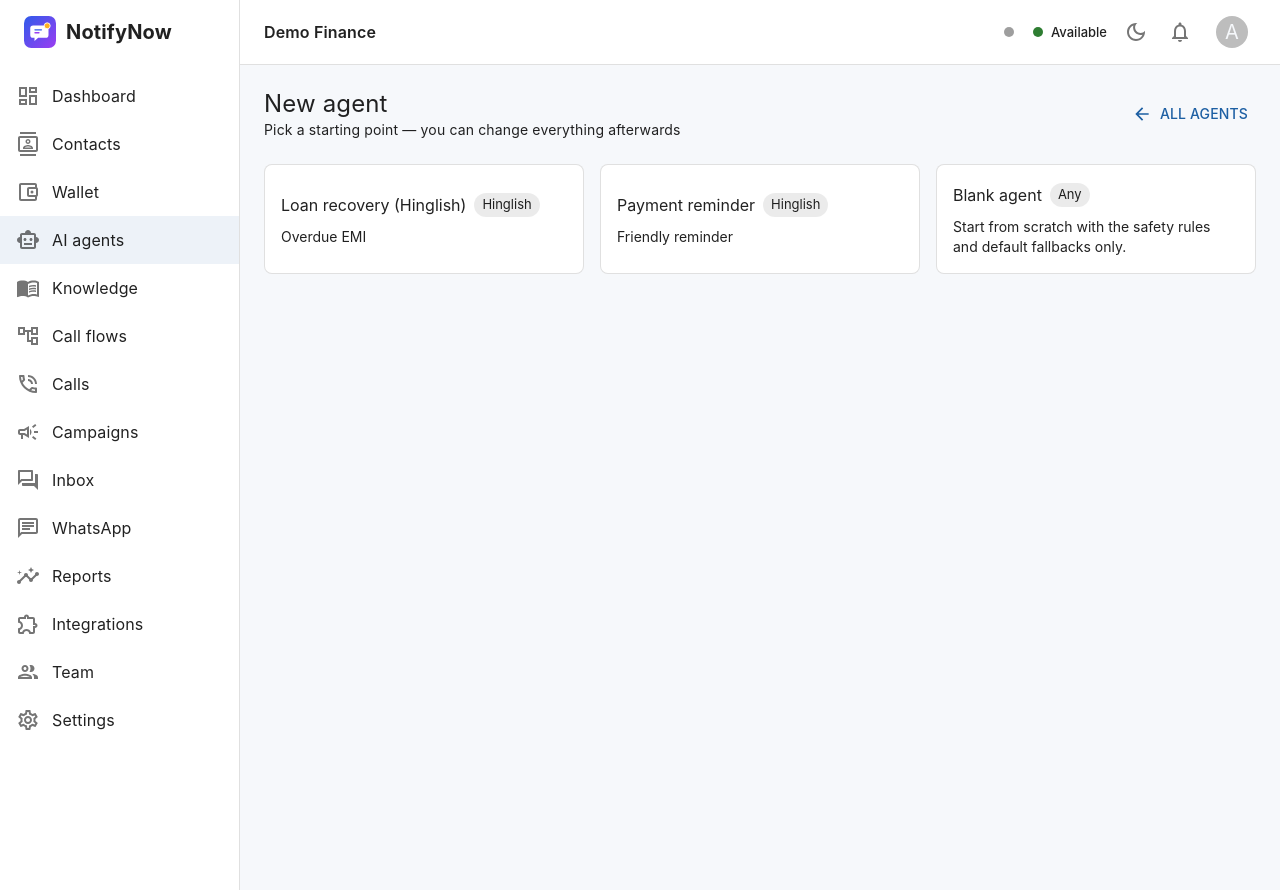
Scenario: /agents/new › creates from a template and opens the editor
Click the heading "Loan recovery (Hinglish)": [374, 205] box [281, 191, 466, 219]
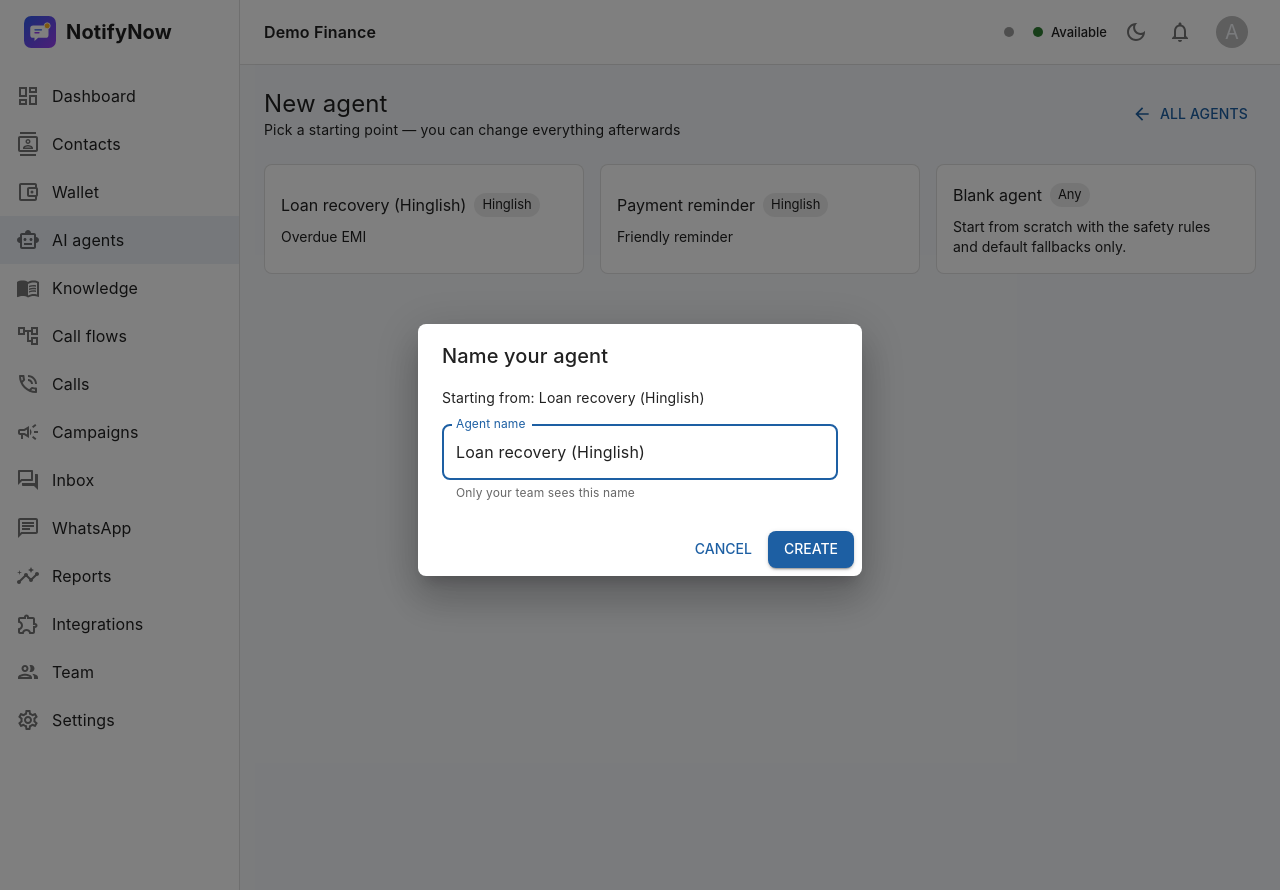
Expected: the field labelled "Agent name" holds "Loan recovery (Hinglish)"
Replace the text in the field labelled "Agent name" with "My recovery": [640, 452] box [442, 424, 838, 480]
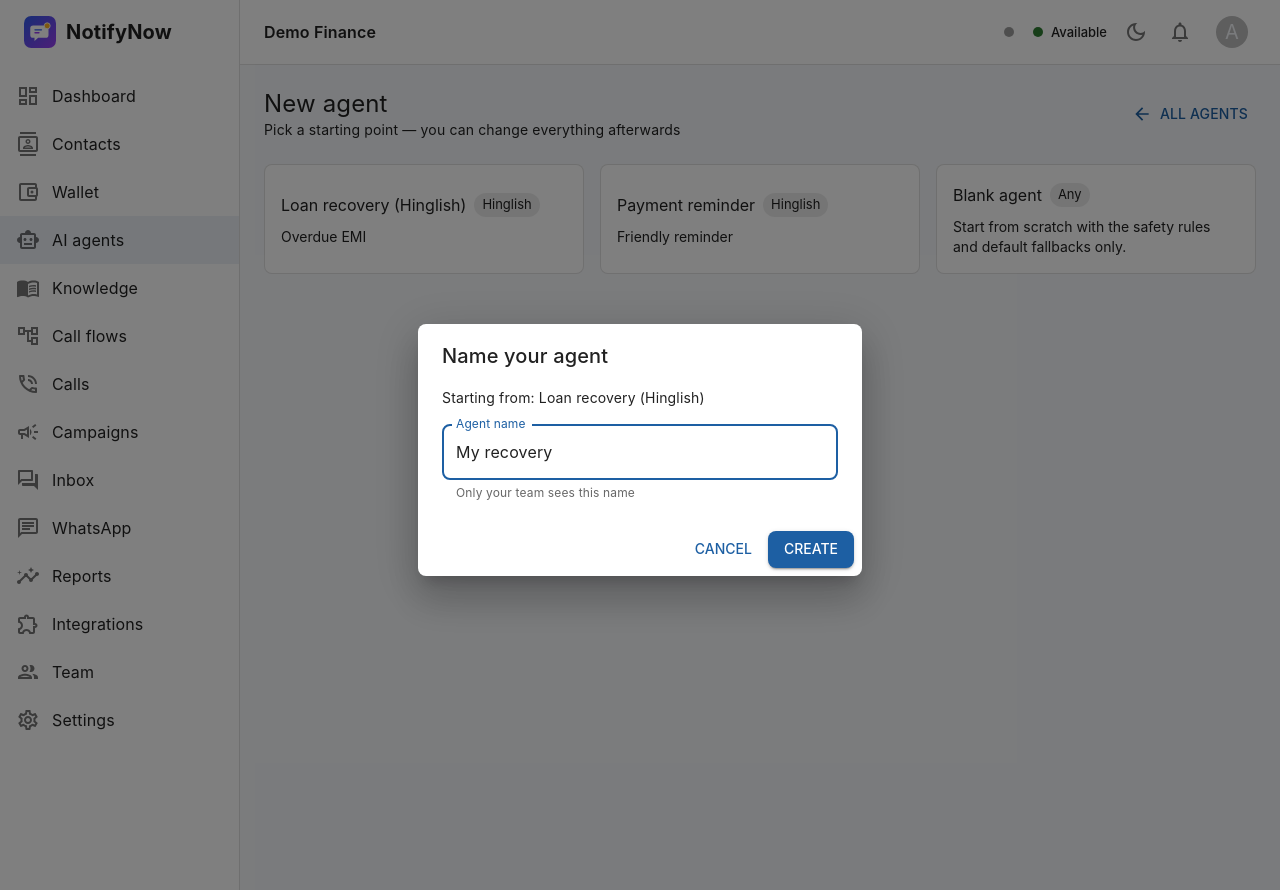
Click the button "Create": [811, 549] box [768, 531, 854, 568]
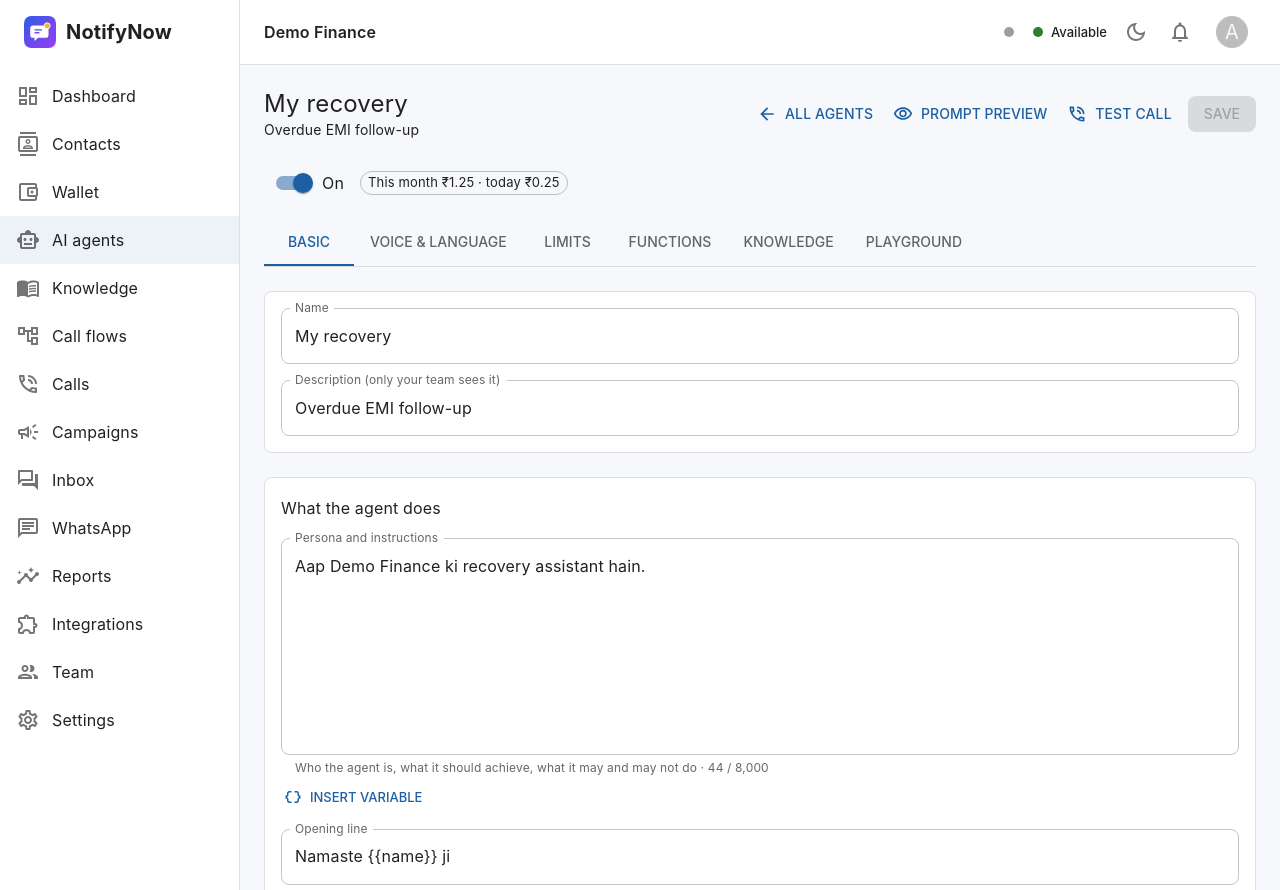
Expected: the heading "My recovery" is shown, [264, 88, 419, 120]
